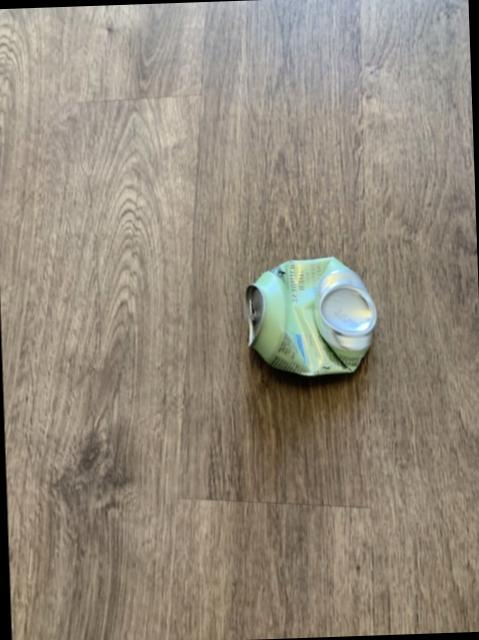metal: (247, 255, 377, 373)
